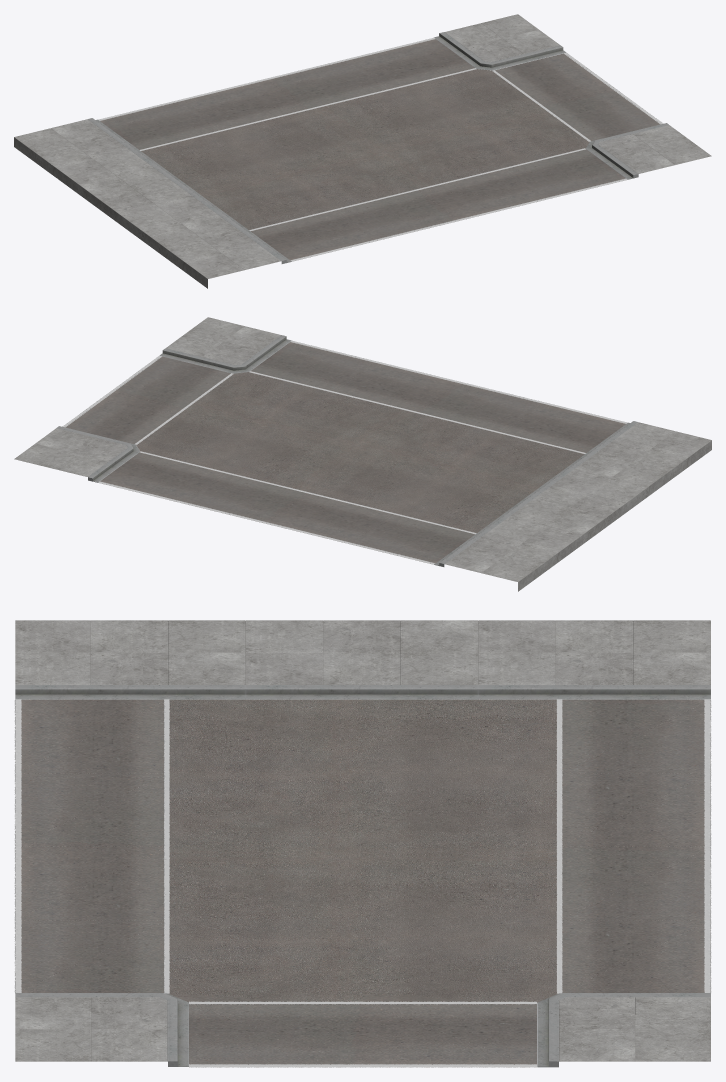
The model's file is Intersection_T_4x2_lane.fbx.
The picture shows the model from 3 angles, top to bottom: view 1: azimuth 30°, elevation 25°; view 2: azimuth 150°, elevation 25°; view 3: azimuth 270°, elevation 25°; orthographic projection. The views are drawn at different scales.
Parts seen in each view (by area): view 1: Intersection_T_4x2_lane; view 2: Intersection_T_4x2_lane; view 3: Intersection_T_4x2_lane.
Part boxes in pixels (x1,y1,x2,y2): Intersection_T_4x2_lane: [14, 14, 711, 288]; Intersection_T_4x2_lane: [14, 317, 711, 591]; Intersection_T_4x2_lane: [14, 620, 711, 1067].
Bounding box in the file's own units: 2403 × 44.86 × 1605.
